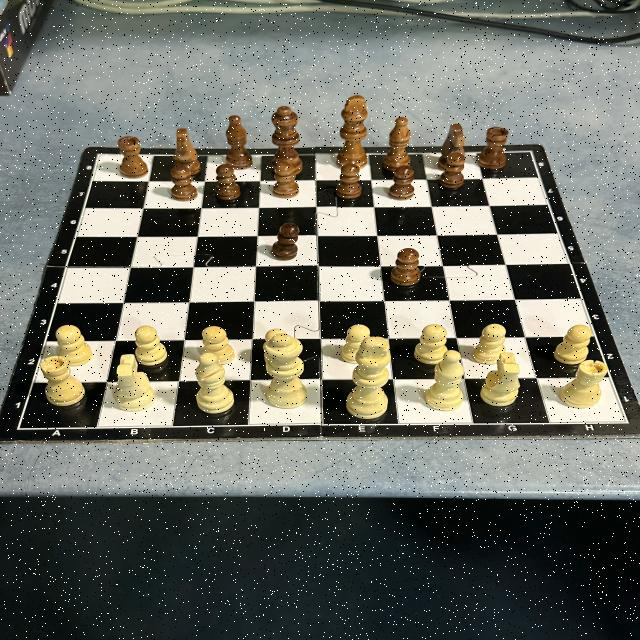Black-Bishop: (382, 116, 412, 172), (226, 115, 253, 171)
Black-King: (336, 95, 368, 169)
Black-Knight: (436, 123, 466, 169), (174, 128, 202, 175)
Black-Pawn: (392, 248, 422, 286), (272, 222, 300, 260), (272, 162, 300, 199), (215, 164, 242, 202), (335, 163, 363, 199), (170, 165, 198, 201), (439, 152, 466, 188), (388, 166, 416, 200)
Black-Queen: (272, 106, 304, 176)
Black-Rook: (476, 126, 510, 170), (118, 136, 150, 178)
White-Bishop: (194, 352, 236, 414), (424, 349, 464, 412)
White-King: (346, 336, 392, 420)
White-Knight: (114, 354, 156, 412), (480, 352, 520, 407)
White-Pawn: (553, 325, 593, 365), (56, 324, 93, 366), (472, 323, 507, 365), (414, 325, 448, 365), (136, 324, 168, 366), (202, 326, 236, 364), (341, 324, 373, 364), (264, 328, 288, 340)
White-Queen: (264, 333, 308, 409)
White-Rook: (560, 360, 608, 410), (40, 355, 86, 406)
